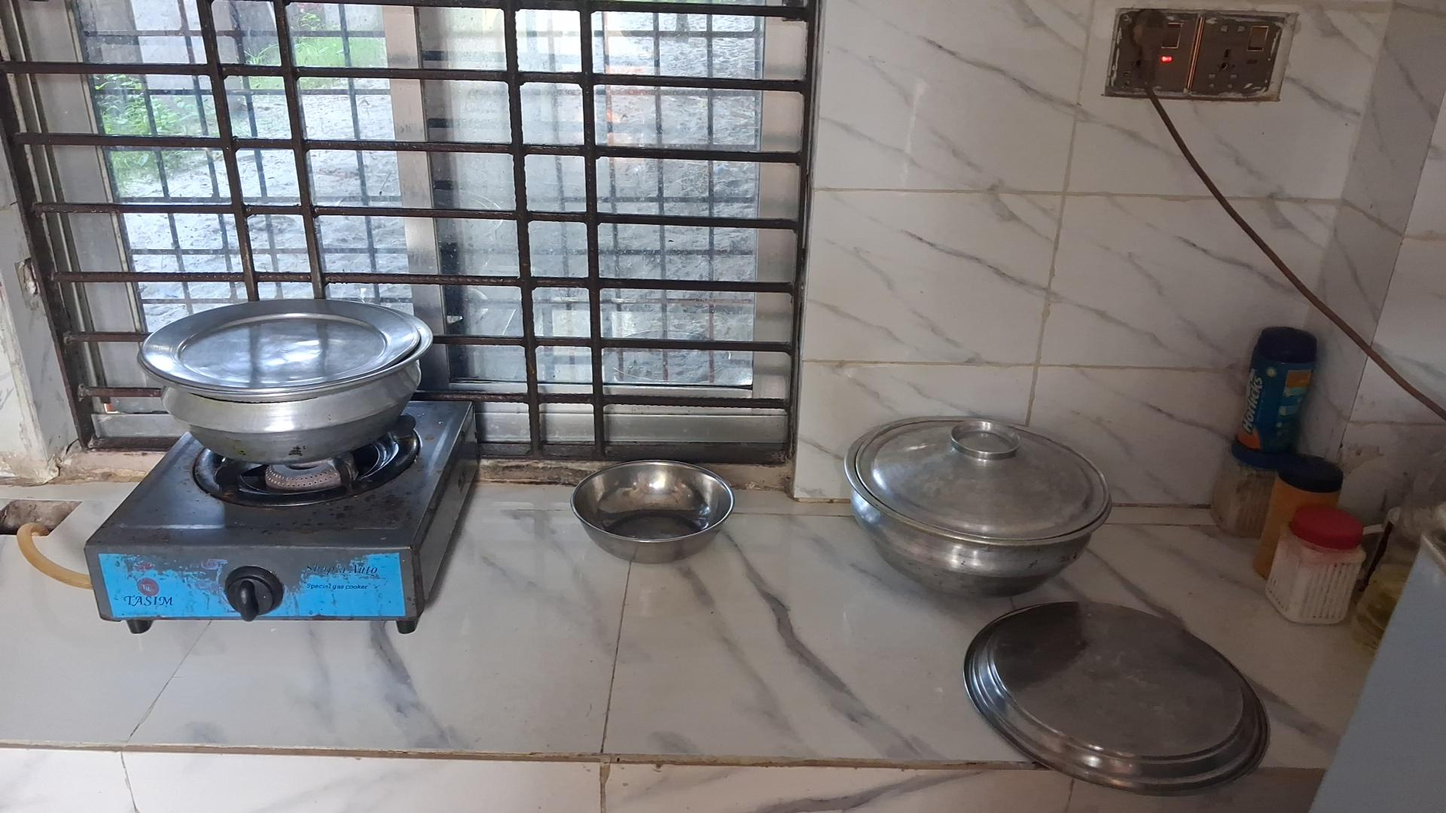Bowl: (571, 460, 734, 564)
Jar: (1272, 502, 1367, 630), (1234, 330, 1318, 467), (1212, 443, 1284, 539)
Plate: (966, 606, 1267, 780)
Pot: (133, 295, 433, 465), (845, 414, 1113, 600)
